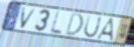3: (34, 9, 51, 33)
A: (95, 17, 115, 43)
D: (64, 11, 84, 37)
L: (49, 10, 64, 36)
U: (82, 14, 103, 39)
V: (19, 7, 38, 30)
